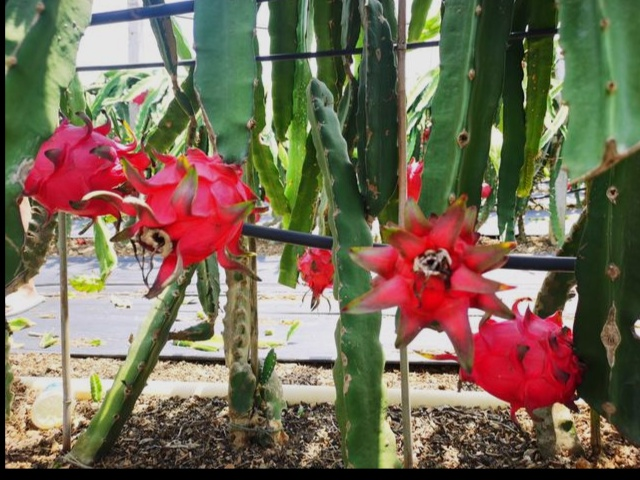pitaya: (350, 204, 509, 338), (453, 311, 580, 407), (142, 147, 249, 256), (26, 123, 146, 212), (297, 245, 335, 296), (395, 154, 434, 200)
